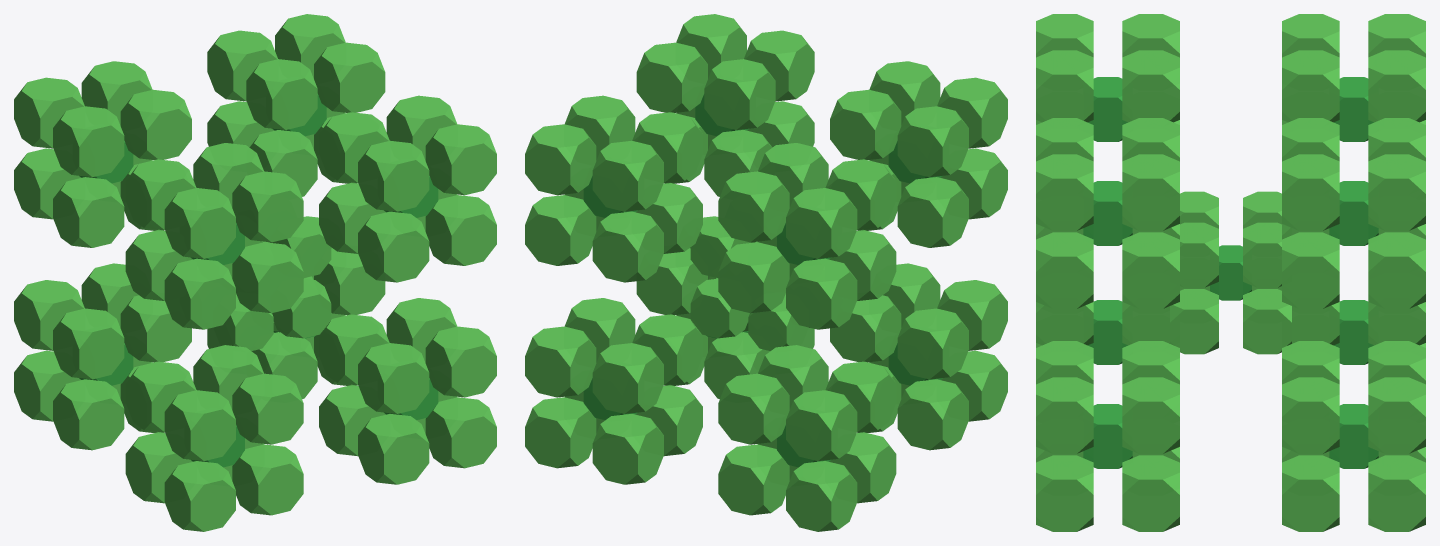
The model's file is fractaltruncatedcube2.glb.
3 renders of one model, left to right at view 1: azimuth 30°, elevation 25°; view 2: azimuth 150°, elevation 25°; view 3: azimuth 270°, elevation 25°, orthographic. The views are drawn at different scales.
Bounding box in the file's own units: 6.99 × 6.99 × 6.99.
